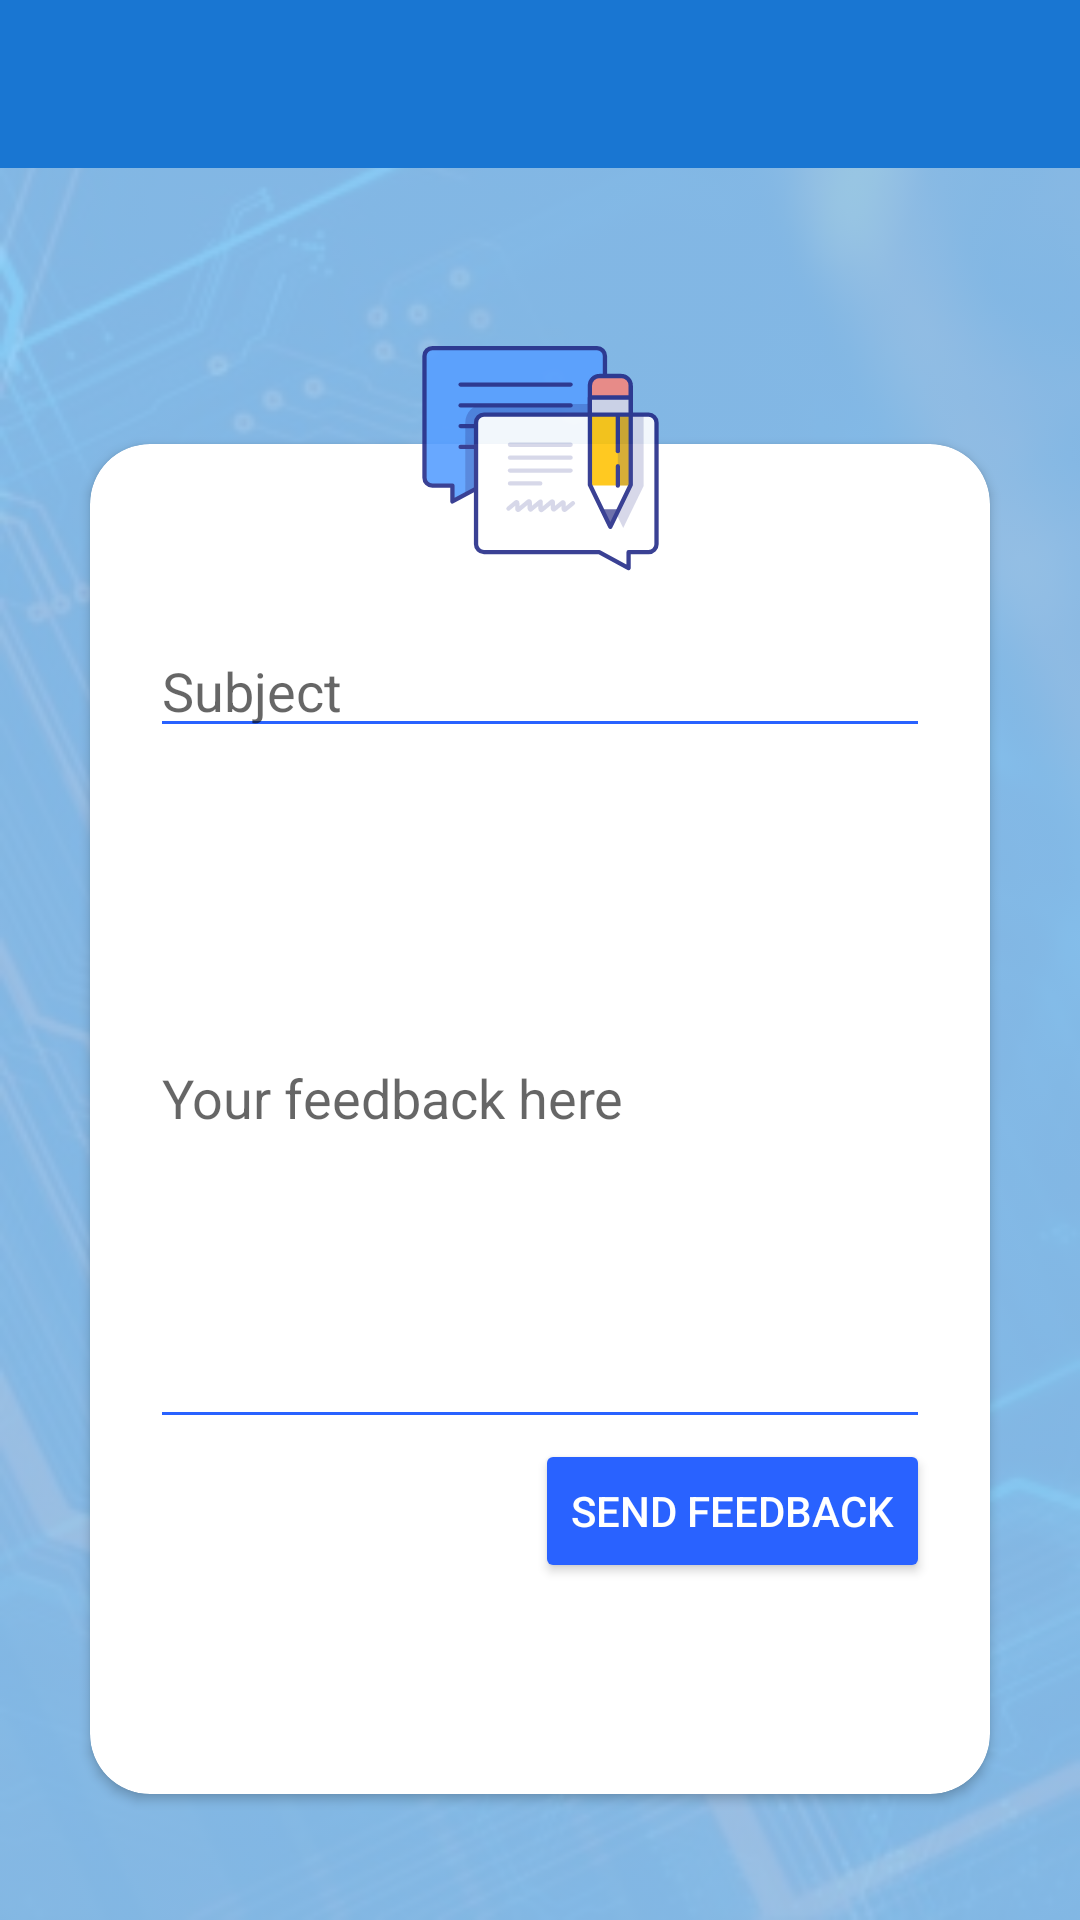

Icon click points for this 1080×1920 phone screenshot, format (x=x, y=y):
feedback: (x=540, y=455)
